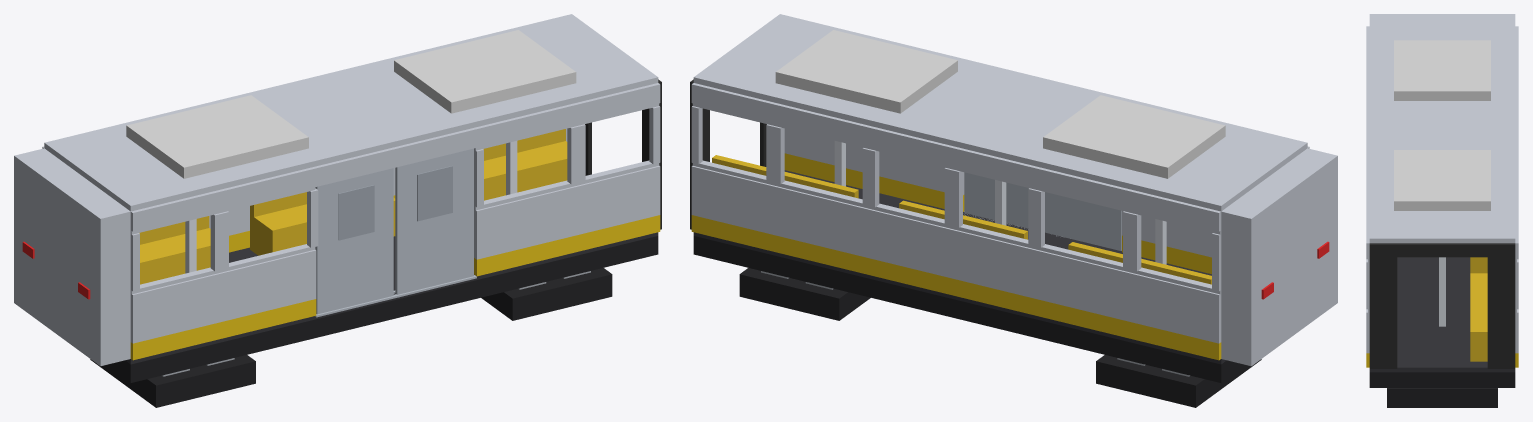
Rendered from metro_wagon_rear_closed_l4.obj.
The picture shows the model from 3 angles, left to right: view 1: azimuth 30°, elevation 25°; view 2: azimuth 150°, elevation 25°; view 3: azimuth 270°, elevation 25°; orthographic projection. The views are drawn at different scales.
Size of the model in its own units: 3.16 by 1.26 by 0.88.
